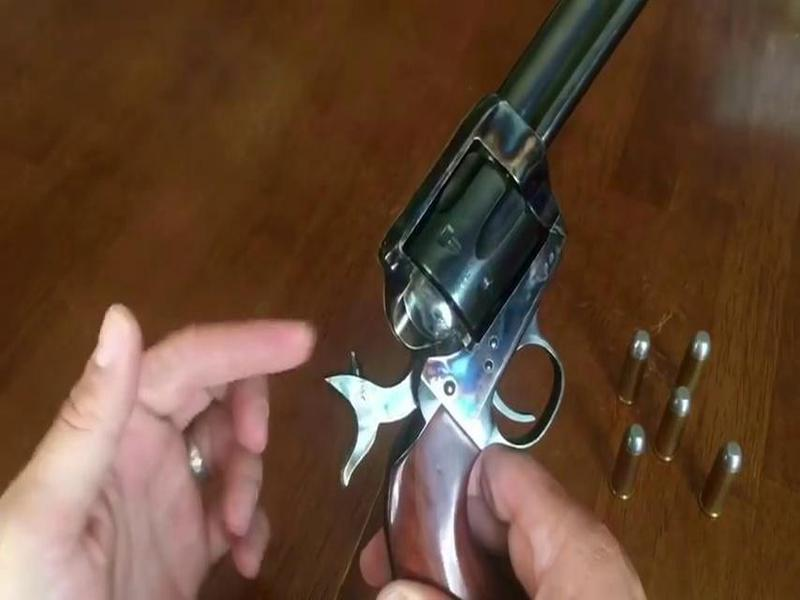Revolver: (321, 7, 590, 495)
